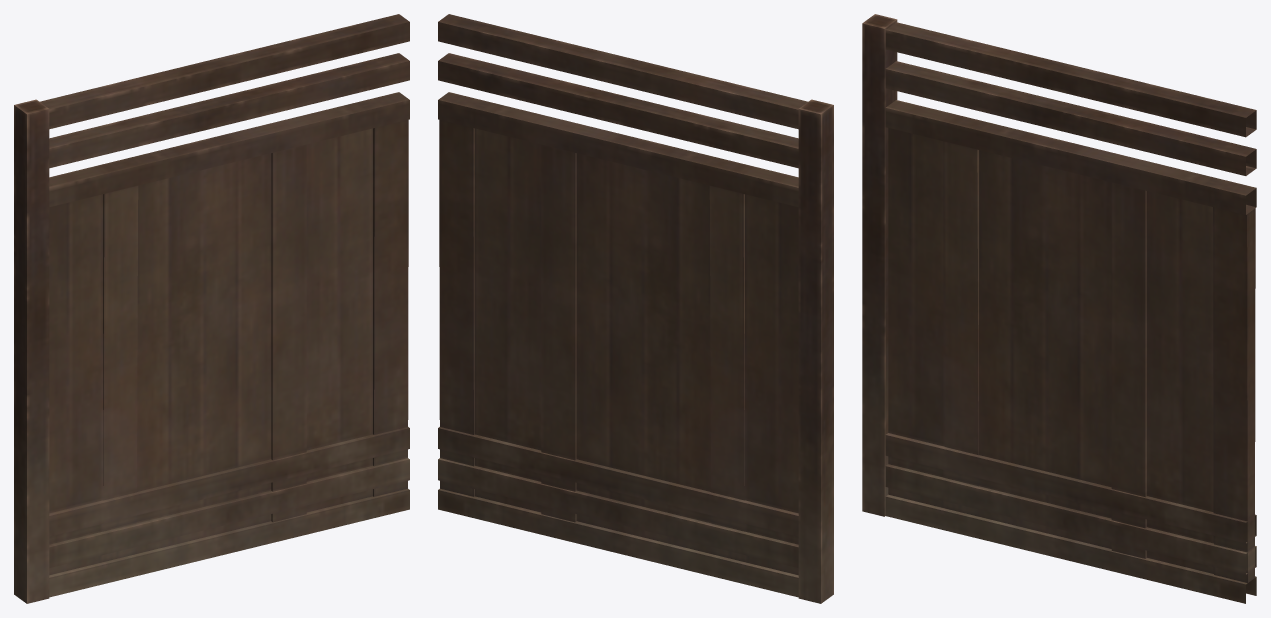
Rendered from Wall_07b.fbx.
3 renders of one model, left to right at view 1: azimuth 30°, elevation 25°; view 2: azimuth 150°, elevation 25°; view 3: azimuth 330°, elevation 25°, orthographic.
Visible parts, largest first — view 1: SM_cmn_build_Wall_07d.mo; view 2: SM_cmn_build_Wall_07d.mo; view 3: SM_cmn_build_Wall_07d.mo.
Boxes of the visible parts, left/top/right/bottom form: SM_cmn_build_Wall_07d.mo: left=14, top=14, right=409, bottom=603; SM_cmn_build_Wall_07d.mo: left=438, top=14, right=833, bottom=603; SM_cmn_build_Wall_07d.mo: left=862, top=14, right=1256, bottom=603.
Size of the model in its own units: 206 by 251 by 12.
Materials: 1 (1 with a texture image).
